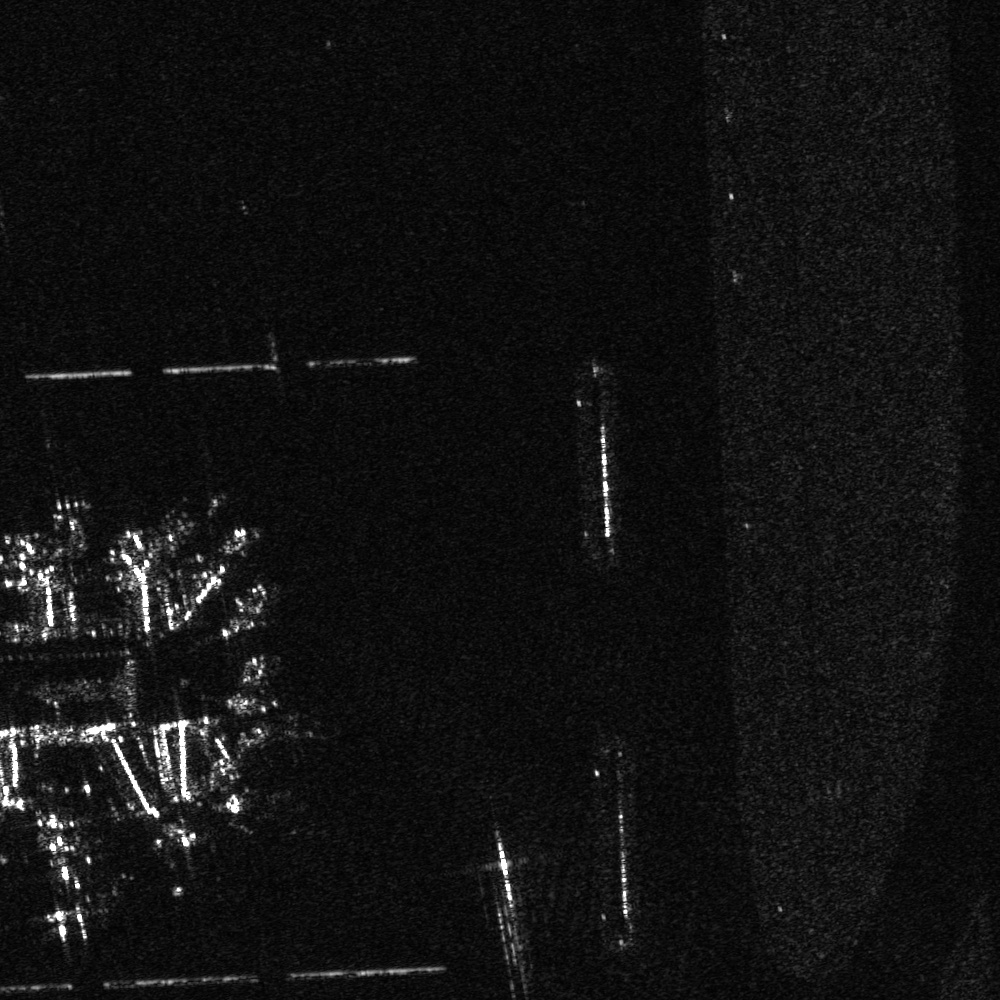A320/321: (41, 493, 97, 545)
Boeing737: (192, 786, 280, 835)
